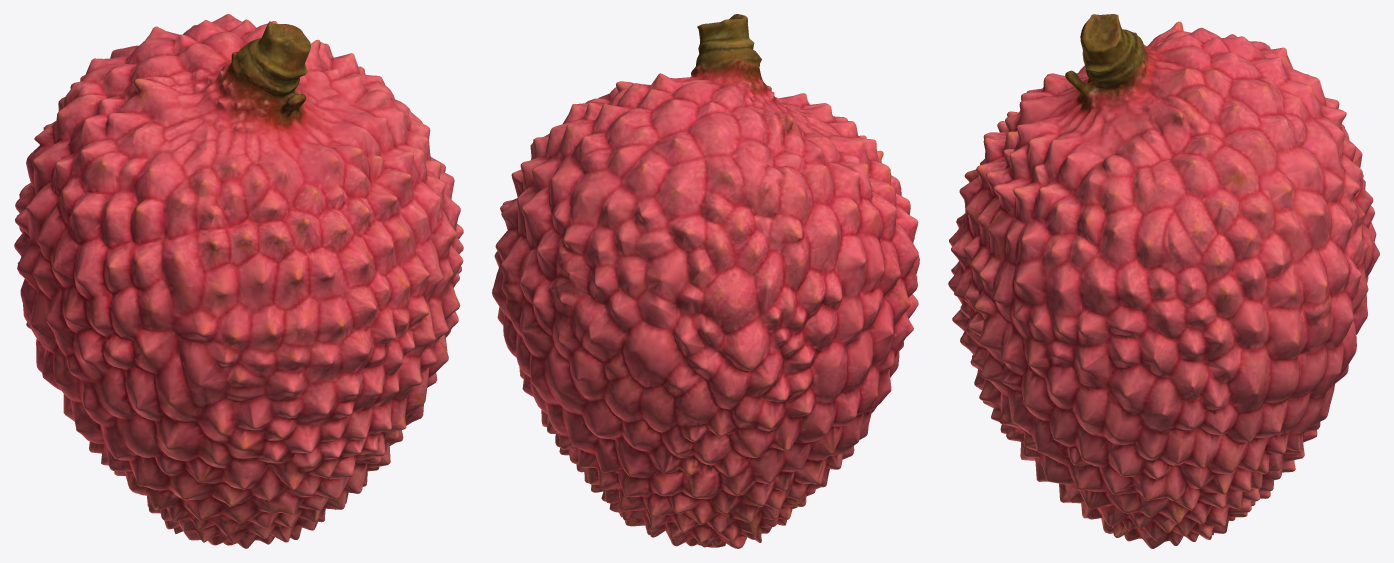
Rendered from Lychee.glb.
3 views of the same model, side by side, from view 1: azimuth 30°, elevation 25°; view 2: azimuth 150°, elevation 25°; view 3: azimuth 270°, elevation 25° (orthographic). The views are drawn at different scales.
Parts seen in each view (by area): view 1: mesh_node; view 2: mesh_node; view 3: mesh_node.
Part boxes in pixels (left/top/right/bottom): mesh_node: left=14, top=14, right=463, bottom=548; mesh_node: left=492, top=14, right=919, bottom=548; mesh_node: left=948, top=14, right=1379, bottom=548.
Size of the model in its own units: 1.46 by 1.9 by 1.44.
Materials: 1 (1 with a texture image).
